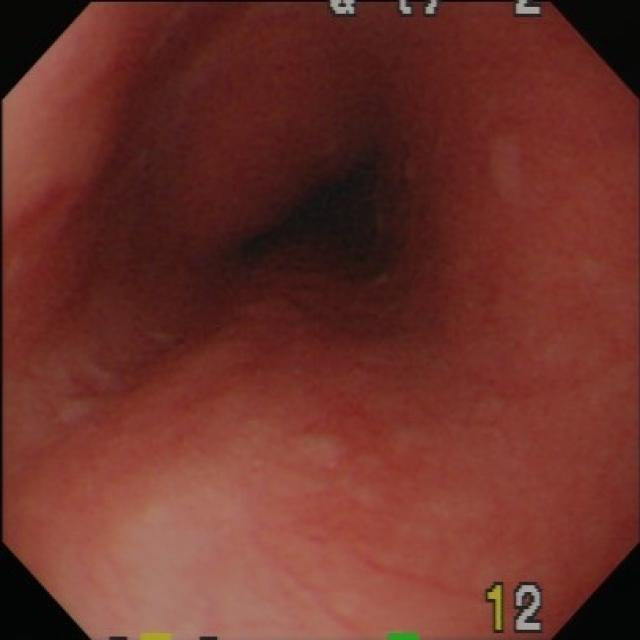E: (257, 155, 396, 283)
J: (91, 417, 405, 634)
S: (485, 581, 547, 636), (325, 3, 545, 18)
